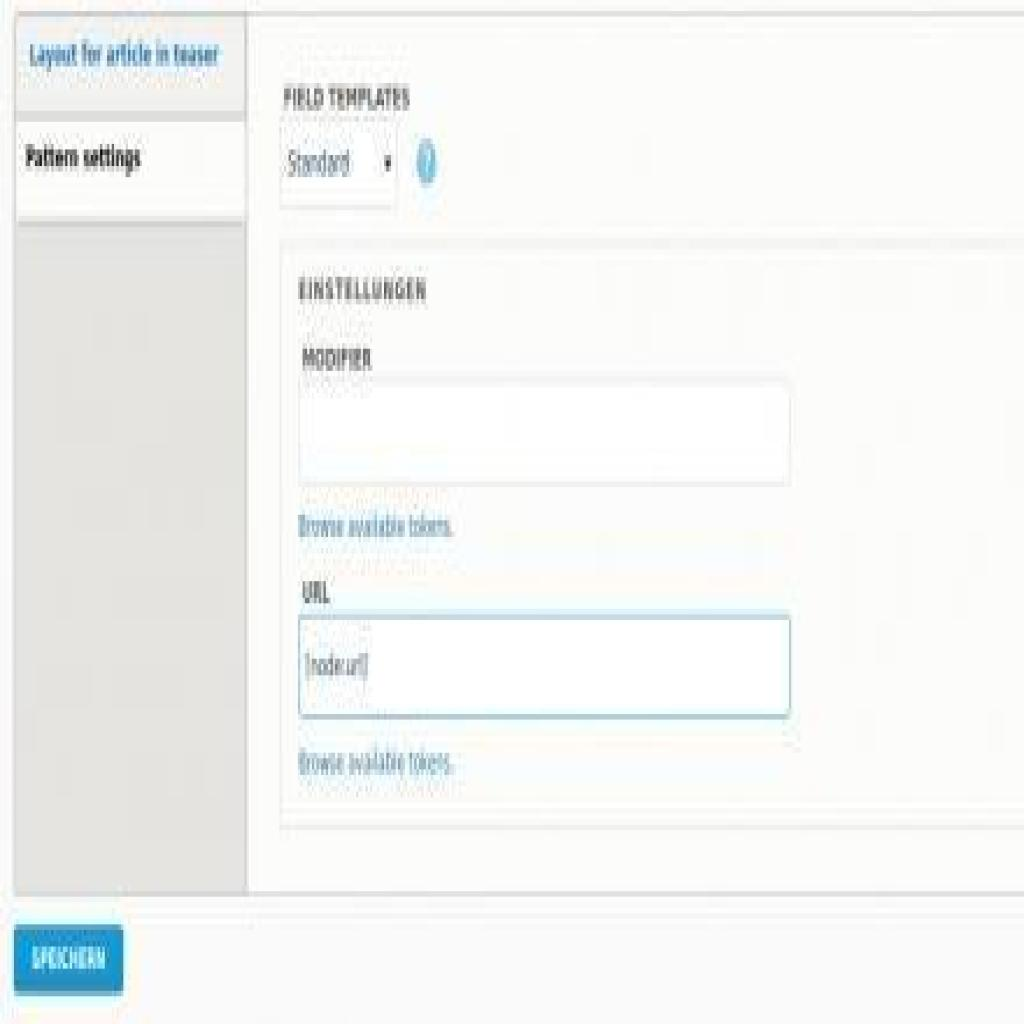button: (12, 924, 123, 996)
dropdown: (280, 116, 400, 205)
input: (298, 609, 793, 725), (300, 376, 794, 487)
label: (300, 338, 377, 376), (300, 564, 333, 614)
